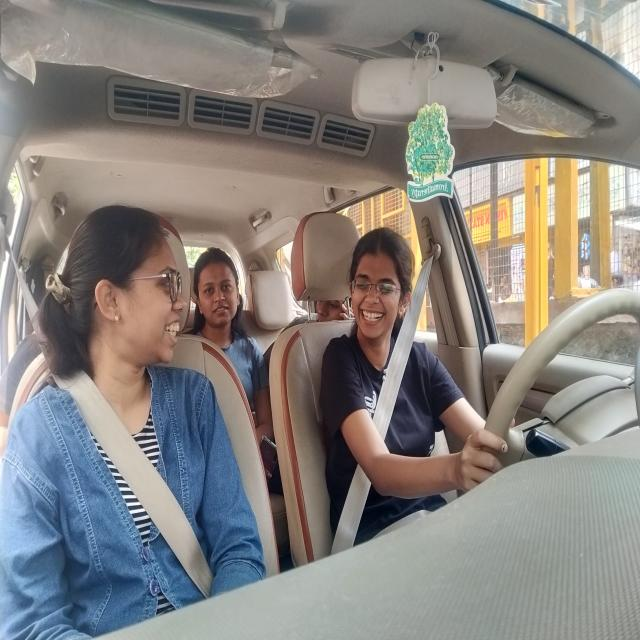LeftRight: (346, 233, 415, 348)
person: (78, 202, 190, 368), (197, 248, 244, 332)
talking: (360, 301, 388, 329), (161, 318, 183, 340)
